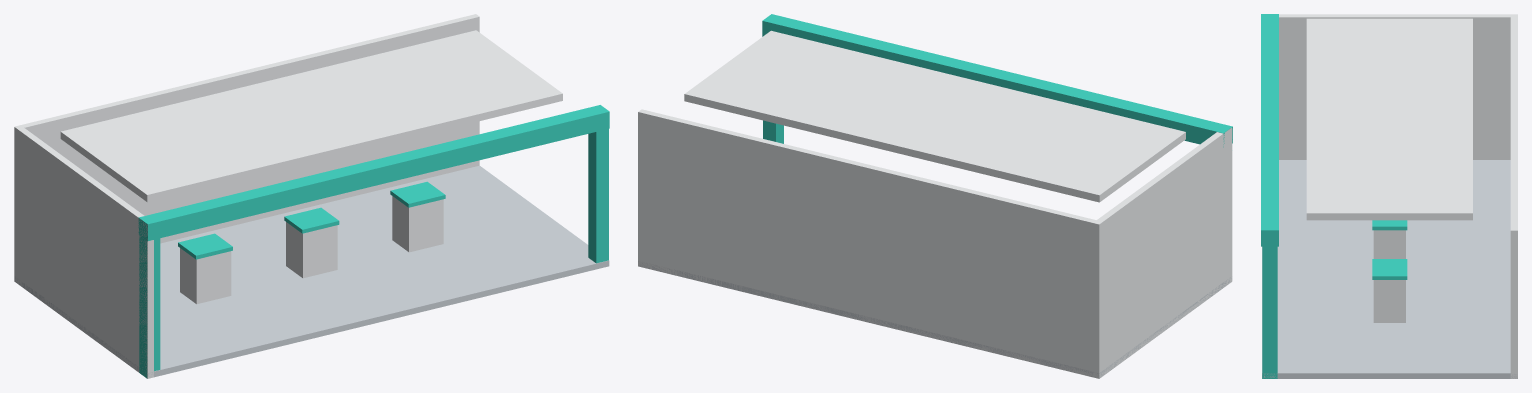
The picture shows the model from 3 angles, left to right: view 1: azimuth 30°, elevation 25°; view 2: azimuth 150°, elevation 25°; view 3: azimuth 270°, elevation 25°; orthographic projection. The views are drawn at different scales.
Parts seen in each view (by area): view 1: Exhibition Booth Concept; view 2: Exhibition Booth Concept; view 3: Exhibition Booth Concept.
Part boxes in pixels (<box>): Exhibition Booth Concept: <box>14,14,609,378</box>; Exhibition Booth Concept: <box>638,14,1232,378</box>; Exhibition Booth Concept: <box>1261,14,1517,378</box>.
Size of the model in its own units: 10 by 3.34 by 5.02.
